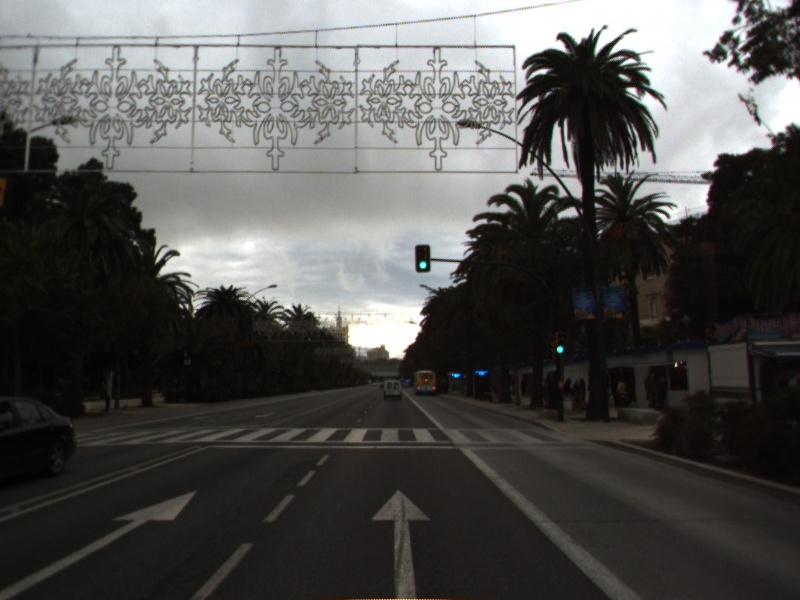STRAIGHT: (1, 489, 199, 600), (369, 487, 432, 600)
